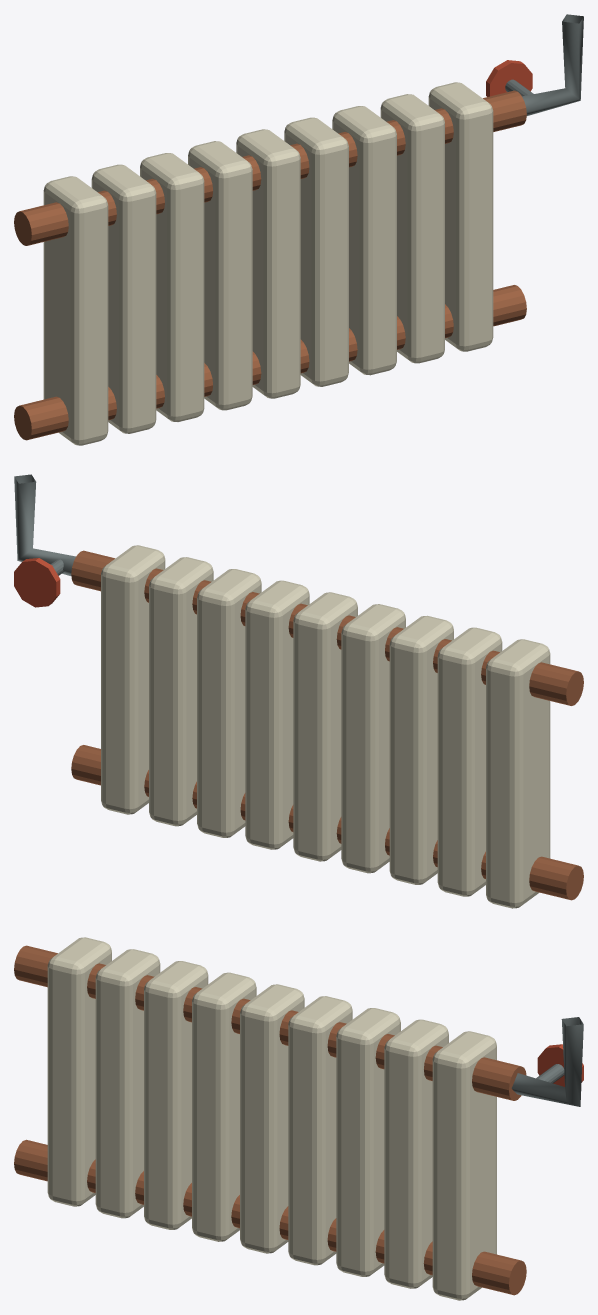
Rendered from radiator.glb.
3 renders of one model, top to bottom at view 1: azimuth 30°, elevation 25°; view 2: azimuth 150°, elevation 25°; view 3: azimuth 330°, elevation 25°, orthographic.
Visible parts, largest first — view 1: radiator; view 2: radiator; view 3: radiator.
Boxes of the visible parts, box(x1,y1,x2,y2) form: radiator: box(14, 14, 583, 445); radiator: box(14, 474, 583, 908); radiator: box(14, 937, 583, 1300).
Bounding box in the file's own units: 1.63 × 0.82 × 0.22.
